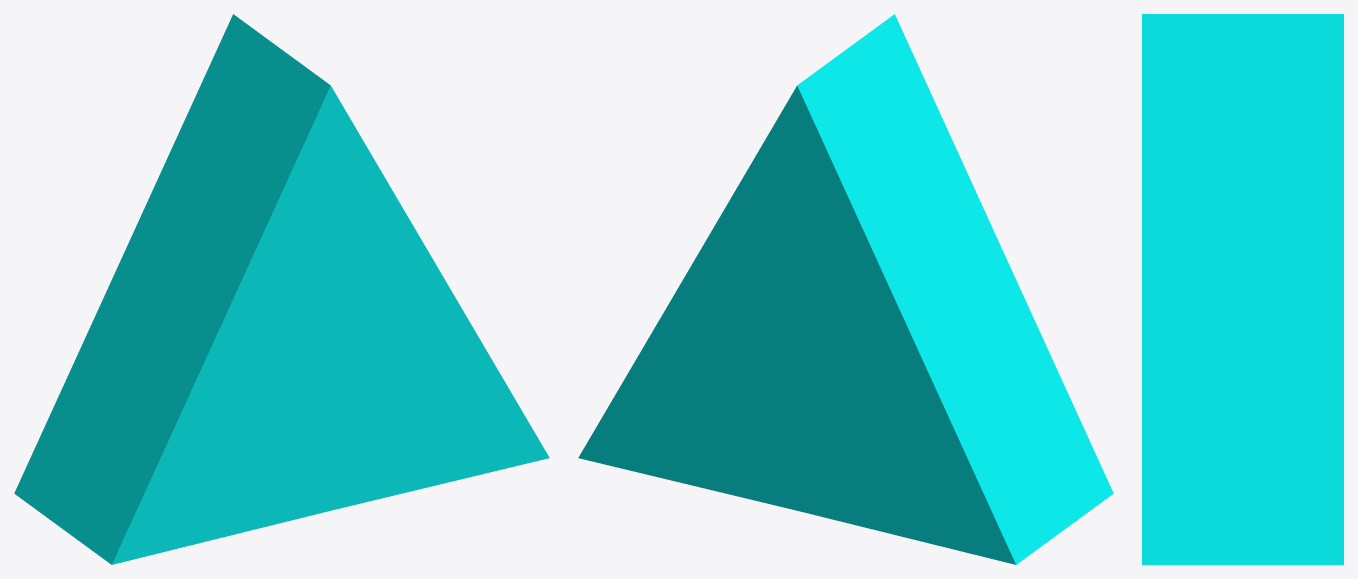
The model's file is Triangulo_Pequeño_Vida.fbx.
3 renders of one model, left to right at view 1: azimuth 30°, elevation 25°; view 2: azimuth 150°, elevation 25°; view 3: azimuth 270°, elevation 25°, orthographic. The views are drawn at different scales.
Parts seen in each view (by area): view 1: Triangulo_Pequeño_Vida; view 2: Triangulo_Pequeño_Vida; view 3: Triangulo_Pequeño_Vida.
Boxes of the visible parts, x1,y1,x2,y2 form: Triangulo_Pequeño_Vida: (14, 14, 549, 564); Triangulo_Pequeño_Vida: (578, 14, 1113, 564); Triangulo_Pequeño_Vida: (1142, 14, 1343, 564).
Bounding box in the file's own units: 27.34 × 25.42 × 10.55.
